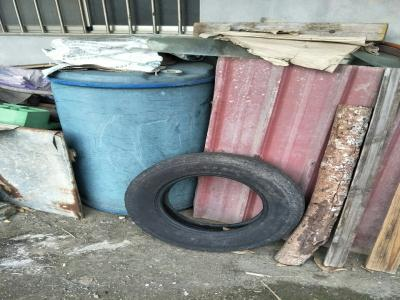box: (1, 103, 49, 128)
bucket: (44, 56, 223, 217)
tire: (121, 149, 308, 254)
